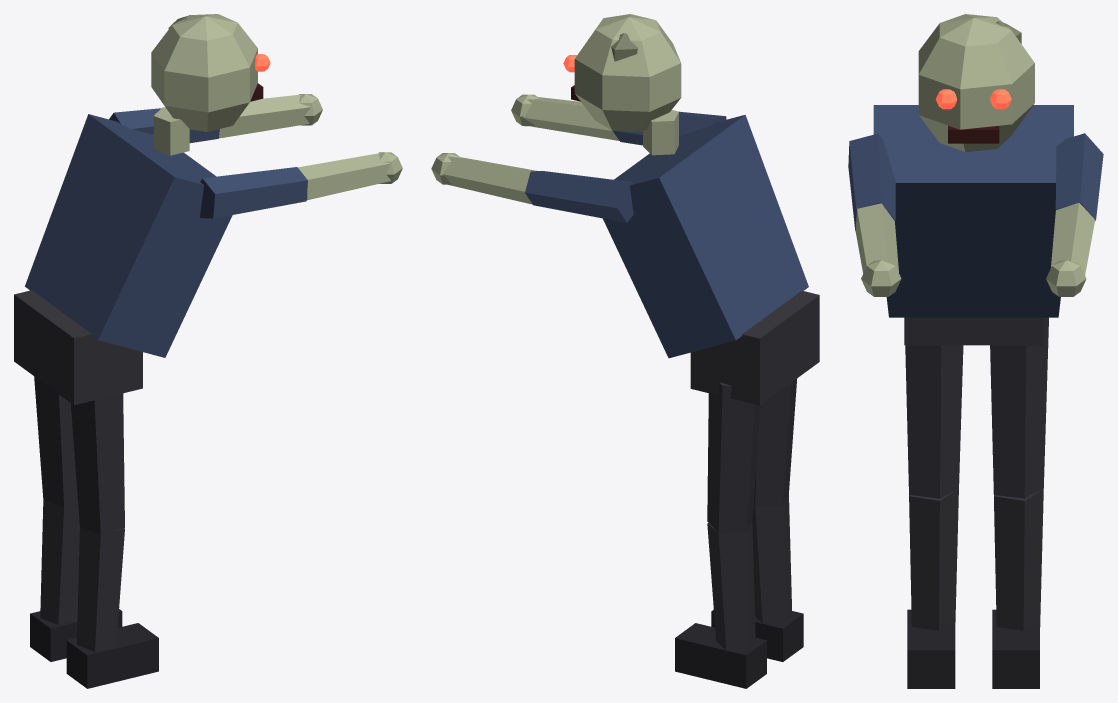
File: runner.glb
3 renders of one model, left to right at view 1: azimuth 30°, elevation 25°; view 2: azimuth 150°, elevation 25°; view 3: azimuth 270°, elevation 25°, orthographic. The views are drawn at different scales.
Visible parts, largest first — view 1: body, leg_r, head, leg_l, arm_r, arm_l; view 2: body, leg_l, head, leg_r, arm_l, arm_r; view 3: body, leg_l, leg_r, head, arm_l, arm_r.
Part boxes in pixels (x1=…): body: x1=14, y1=107, x2=232, y2=405; leg_r: x1=66, y1=393, x2=158, y2=688; head: x1=151, y1=14, x2=270, y2=131; leg_l: x1=30, y1=376, x2=122, y2=661; arm_r: x1=200, y1=152, x2=402, y2=218; arm_l: x1=109, y1=94, x2=322, y2=143; body: x1=602, y1=110, x2=819, y2=405; leg_l: x1=675, y1=382, x2=766, y2=688; head: x1=563, y1=14, x2=681, y2=131; leg_r: x1=711, y1=378, x2=803, y2=661; arm_l: x1=431, y1=153, x2=633, y2=222; arm_r: x1=511, y1=94, x2=726, y2=145; body: x1=873, y1=105, x2=1073, y2=345; leg_l: x1=990, y1=317, x2=1048, y2=688; leg_r: x1=905, y1=345, x2=963, y2=688; head: x1=918, y1=14, x2=1034, y2=151; arm_l: x1=1046, y1=133, x2=1103, y2=296; arm_r: x1=848, y1=133, x2=901, y2=296.
Bounding box in the file's own units: 0.9389 × 1.76 × 0.5695.
